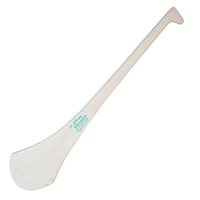hurley: (8, 5, 185, 189)
